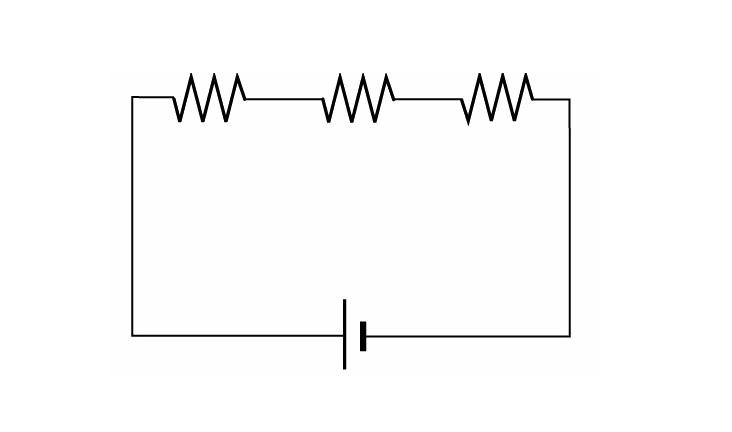resistor: (287, 58, 421, 133), (151, 59, 262, 142), (440, 62, 560, 127)
